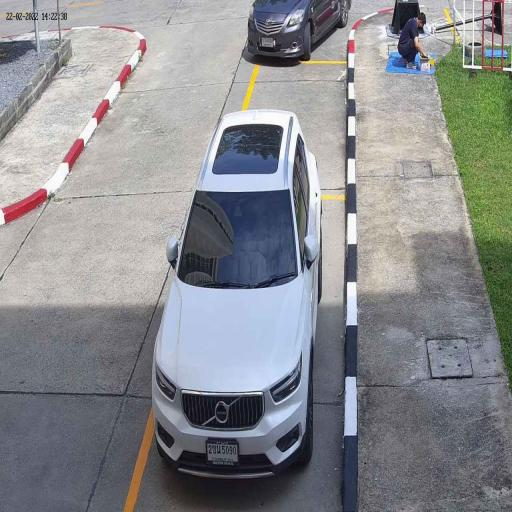car: (151, 108, 323, 486), (247, 0, 353, 60)
